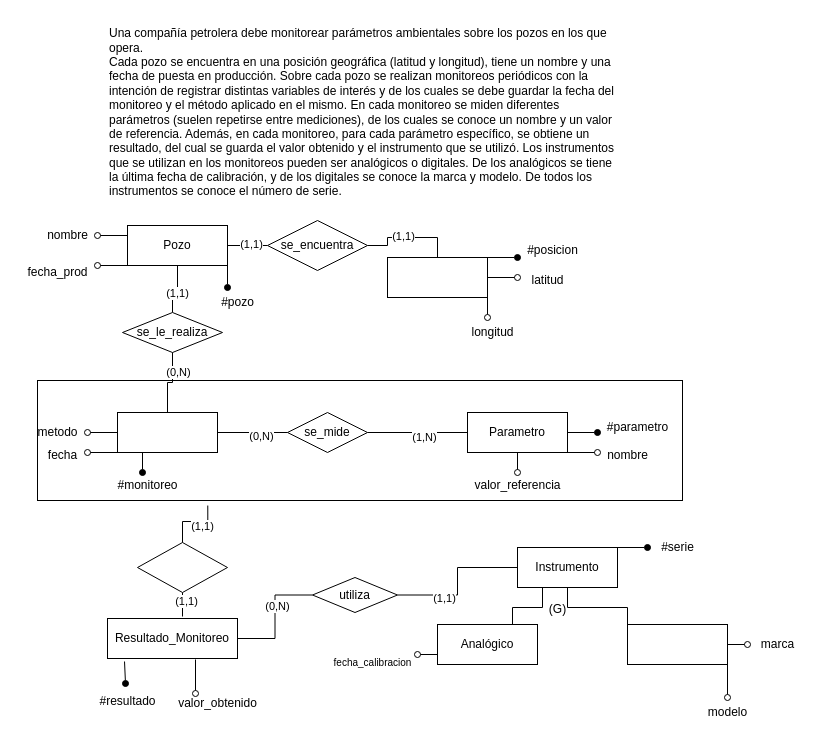
Some shapes in this 824 by 744 pixel diagram are drawn without their labels. Each missing label, with the box of its shape:
Digital: (626, 624, 728, 664)
Monitoreo: (116, 412, 218, 452)
Posicion: (386, 256, 488, 298)
tiene_un: (136, 542, 228, 592)
